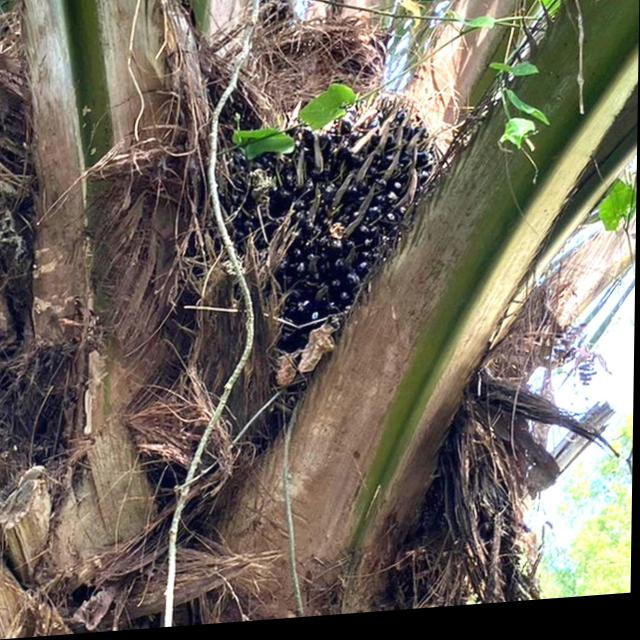unripe: (179, 78, 467, 428)
